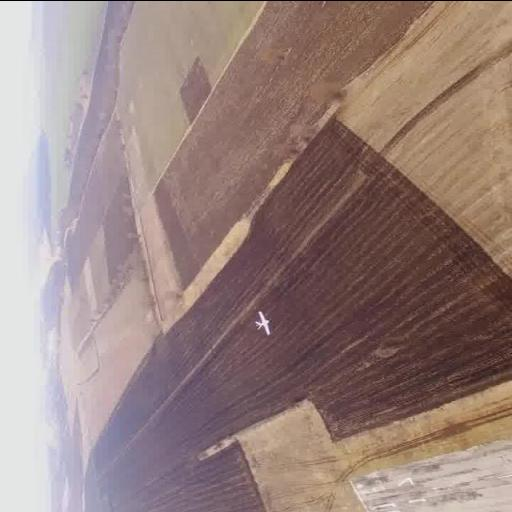uav: (242, 304, 294, 342)
